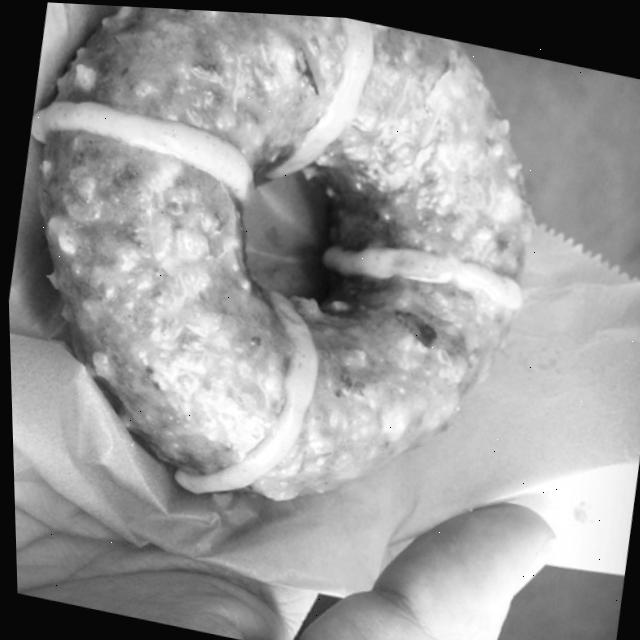炸货点心: (0, 0, 619, 577)
